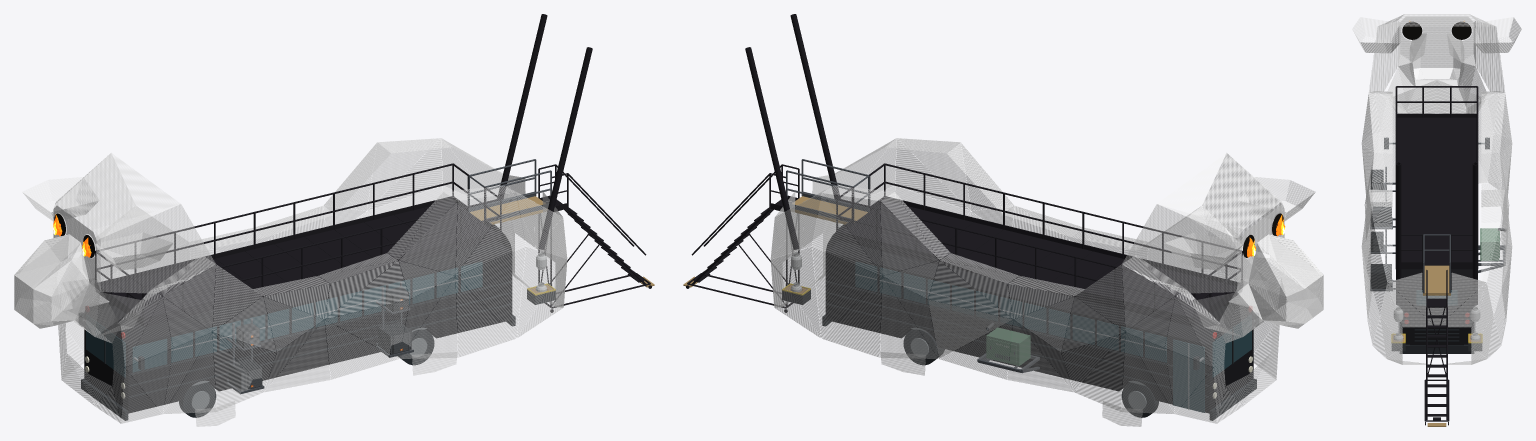
The model's file is baaabs-panelized-v12.glb.
The picture shows the model from 3 angles, left to right: view 1: azimuth 30°, elevation 25°; view 2: azimuth 150°, elevation 25°; view 3: azimuth 270°, elevation 25°; orthographic projection. The views are drawn at different scales.
Parts seen in each view (by area): view 1: Bus__Body_96in_wide, H-D-001 | Driver continuous side, H-C-002 | Center continuous rising crown, H-P-001 | Passenger continuous side, B-D-054 | Driver Skirt 07 b, B-D-053 | Driver Skirt 07 a, B-D-051 | Driver Skirt 06 a, B-D-050 | Driver Skirt 05 b, B-D-038 | Driver Flank 07 b, B-D-036 | Driver Flank 06 b, B-D-043 | Driver Skirt 02 a, B-D-049 | Driver Skirt 05 a (+73 smaller); view 2: Bus__Body_96in_wide, H-P-001 | Passenger continuous side, H-C-002 | Center continuous rising crown, H-D-001 | Driver continuous side, B-P-062 | Passenger Skirt 07 b, B-P-058 | Passenger Skirt 05 b, B-P-059 | Passenger Skirt 06 a, B-P-061 | Passenger Skirt 07 a, B-P-046 | Passenger Flank 07 b, B-P-044 | Passenger Flank 06 b, B-P-051 | Passenger Skirt 02 a, B-D-038 | Driver Flank 07 b (+75 smaller); view 3: Bus__Body_96in_wide, H-D-001 | Driver continuous side, H-P-001 | Passenger continuous side, H-C-002 | Center continuous rising crown, Bus__Rear_engine_hatch, Dancefloor_section_01, Dancefloor_section_02, Dancefloor_section_03, B-D-059 | Driver Rear surround 06 a, B-P-015 | Passenger Rear surround 05 a, Dancefloor_section_04, Dancefloor_section_12 (+100 smaller).
Boxes of the visible parts, x1,y1,x2,y2 form: Bus__Body_96in_wide: (84,241,512,413); H-D-001 | Driver continuous side: (100,204,215,293); H-C-002 | Center continuous rising crown: (56,153,180,229); H-P-001 | Passenger continuous side: (55,153,135,253); B-D-054 | Driver Skirt 07 b: (456,247,525,337); B-D-053 | Driver Skirt 07 a: (455,277,515,357); B-D-051 | Driver Skirt 06 a: (399,277,457,358); B-D-050 | Driver Skirt 05 b: (326,300,409,358); B-D-038 | Driver Flank 07 b: (455,193,514,274); B-D-036 | Driver Flank 06 b: (399,201,457,275); B-D-043 | Driver Skirt 02 a: (163,334,216,413); B-D-049 | Driver Skirt 05 a: (324,320,397,379); Bus__Body_96in_wide: (825,241,1253,413); H-P-001 | Passenger continuous side: (1122,204,1237,293); H-C-002 | Center continuous rising crown: (1157,153,1281,229); H-D-001 | Driver continuous side: (1202,153,1282,253); B-P-062 | Passenger Skirt 07 b: (812,247,881,337); B-P-058 | Passenger Skirt 05 b: (928,299,1012,358); B-P-059 | Passenger Skirt 06 a: (880,277,938,358); B-P-061 | Passenger Skirt 07 a: (822,277,882,357); B-P-046 | Passenger Flank 07 b: (823,193,882,274); B-P-044 | Passenger Flank 06 b: (880,201,938,275); B-P-051 | Passenger Skirt 02 a: (1121,334,1174,413); B-D-038 | Driver Flank 07 b: (897,138,970,209); Bus__Body_96in_wide: (1400,269,1473,344); H-D-001 | Driver continuous side: (1369,21,1397,92); H-P-001 | Passenger continuous side: (1476,21,1504,92); H-C-002 | Center continuous rising crown: (1378,14,1495,26); Bus__Rear_engine_hatch: (1410,319,1463,345); Dancefloor_section_01: (1397,117,1476,129); Dancefloor_section_02: (1397,130,1476,142); Dancefloor_section_03: (1397,142,1476,154); B-D-059 | Driver Rear surround 06 a: (1388,272,1436,325); B-P-015 | Passenger Rear surround 05 a: (1437,272,1485,325); Dancefloor_section_04: (1397,154,1476,166); Dancefloor_section_12: (1395,253,1478,269).
Size of the model in its own units: 19.95 by 8.42 by 5.52.
34 materials, 9 textured.
